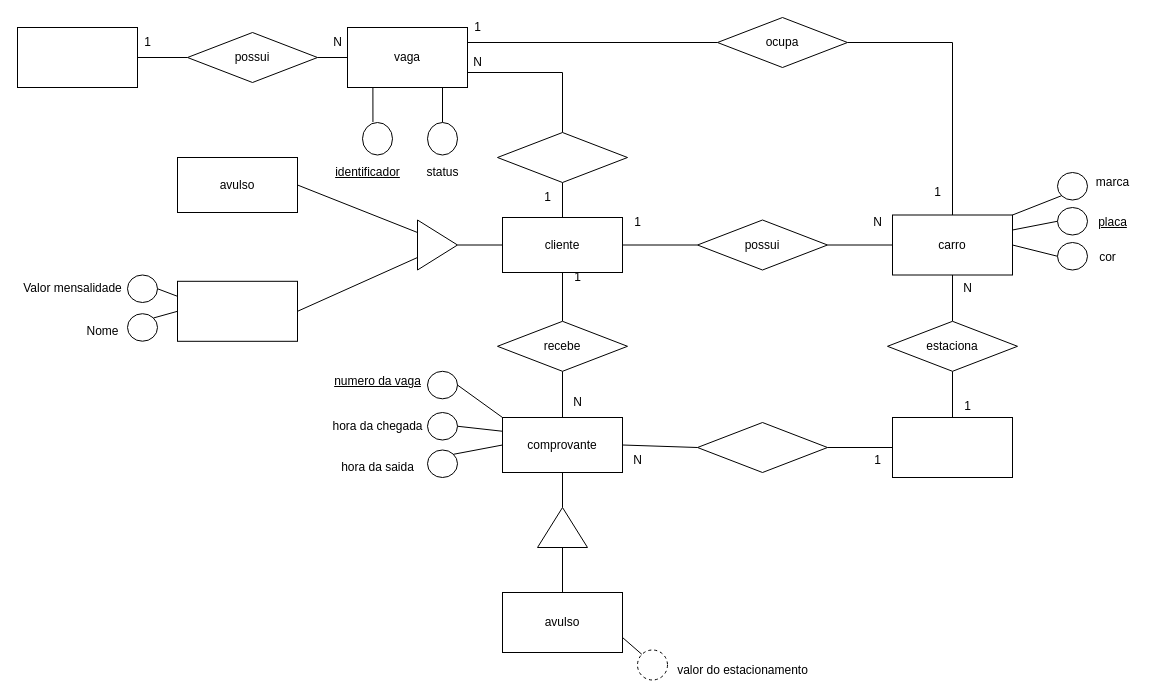
Some shapes in this 1155 by 698 pixel diagram are drawn without their labels. The shapes that lost their labels are listed below. From the top down, each one's box as (x1, y1, x2, y2) in pixels, then its label:
(16, 26, 138, 88): estacionamento
(496, 132, 628, 182): aluga
(176, 280, 298, 341): mensalista
(696, 422, 828, 472): registra
(892, 416, 1012, 478): manobrista
